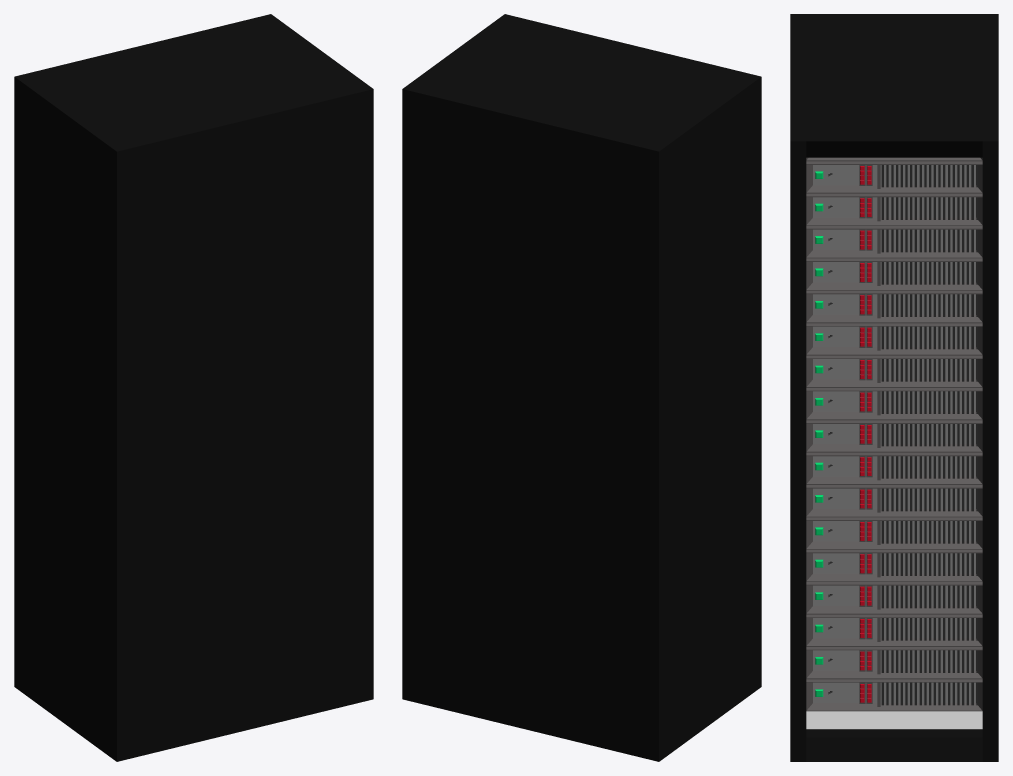
File: server_rack.fbx
The picture shows the model from 3 angles, left to right: view 1: azimuth 30°, elevation 25°; view 2: azimuth 150°, elevation 25°; view 3: azimuth 270°, elevation 25°; orthographic projection.
Parts seen in each view (by area): view 1: Server Rack; view 2: Server Rack; view 3: Server Chassis, Server Rack, Cube.
Boxes of the visible parts, x1=… form: Server Rack: x1=14, y1=14, x2=373, y2=761; Server Rack: x1=402, y1=14, x2=761, y2=761; Server Chassis: x1=806, y1=157, x2=982, y2=711; Server Rack: x1=790, y1=14, x2=998, y2=761; Cube: x1=806, y1=711, x2=982, y2=729.
Bounding box in the file's own units: 308 × 700 × 213.
